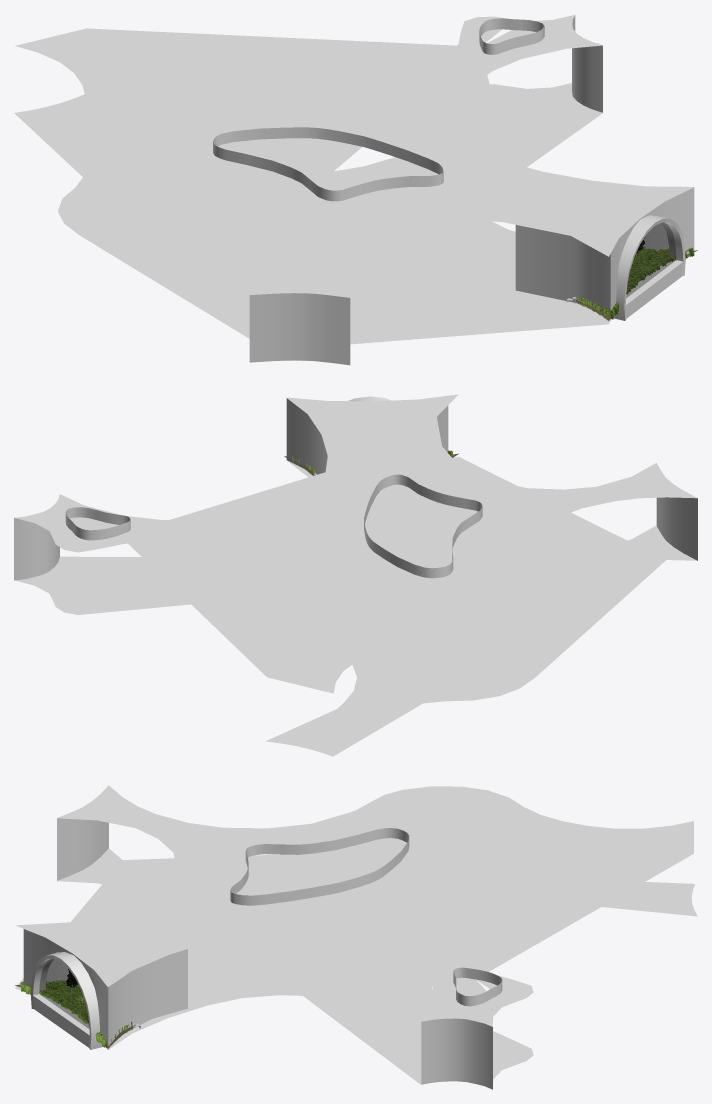
Rendered from MainHall_SpawnRoomEdit.fbx.
3 renders of one model, top to bottom at view 1: azimuth 30°, elevation 25°; view 2: azimuth 150°, elevation 25°; view 3: azimuth 270°, elevation 25°, orthographic. The views are drawn at different scales.
Parts seen in each view (by area): view 1: MainHall_Ceiling, MainHall_Floor, MainHall_Wall, Cylinder.007, Cylinder.008, Grass.003; view 2: MainHall_Ceiling, MainHall_Floor, MainHall_Wall; view 3: MainHall_Ceiling, MainHall_Floor, MainHall_Wall, Cylinder.007, Cylinder.008, Grass.003.
Boxes of the visible parts, left/top/right/bottom form: MainHall_Ceiling: left=15, top=14, right=694, bottom=297; MainHall_Floor: left=14, top=83, right=694, bottom=365; MainHall_Wall: left=249, top=16, right=694, bottom=365; Cylinder.007: left=614, top=215, right=685, bottom=320; Cylinder.008: left=626, top=222, right=675, bottom=297; Grass.003: left=578, top=247, right=694, bottom=319; MainHall_Ceiling: left=14, top=394, right=697, bottom=693; MainHall_Floor: left=15, top=457, right=696, bottom=756; MainHall_Wall: left=14, top=398, right=697, bottom=580; MainHall_Ceiling: left=15, top=785, right=693, bottom=1026; MainHall_Floor: left=15, top=848, right=697, bottom=1089; MainHall_Wall: left=23, top=818, right=492, bottom=1089; Cylinder.007: left=30, top=952, right=103, bottom=1049; Cylinder.008: left=39, top=959, right=89, bottom=1028; Grass.003: left=20, top=980, right=132, bottom=1047.
Bounding box in the file's own units: 6703 × 1061 × 8016.
